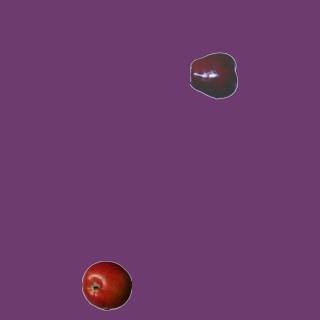Apple Braeburn: (81, 260, 131, 310)
Apple Red Delicious: (189, 50, 239, 100)
